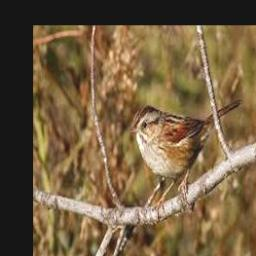Sparrow: (129, 100, 240, 220)
